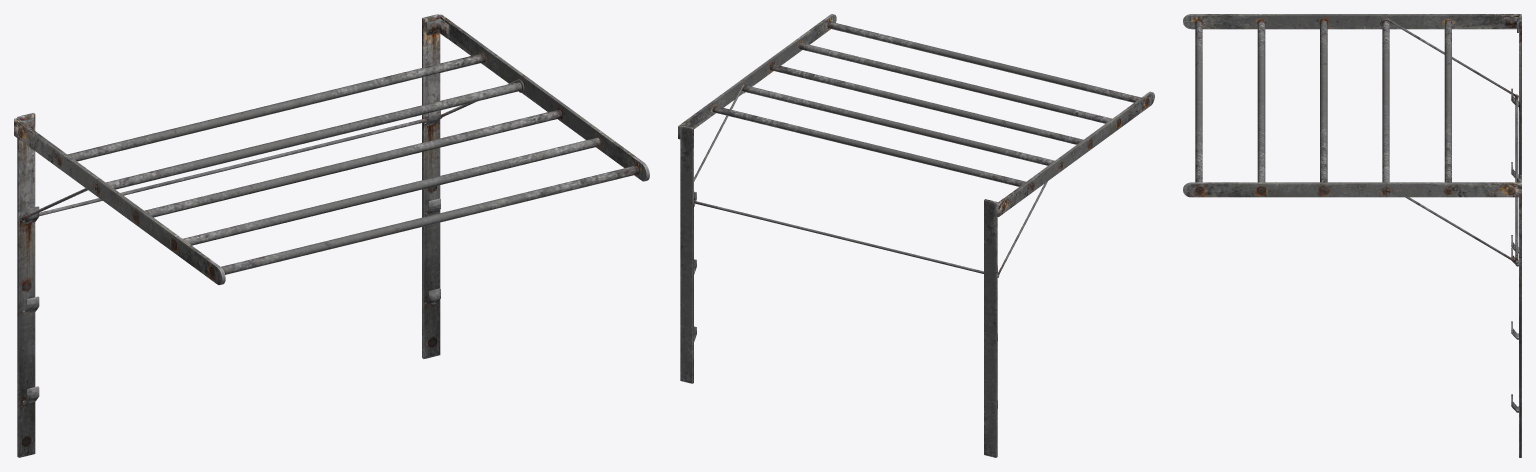
The model's file is 085_MetalShelf.fbx.
3 renders of one model, left to right at view 1: azimuth 30°, elevation 25°; view 2: azimuth 150°, elevation 25°; view 3: azimuth 270°, elevation 25°, orthographic. The views are drawn at different scales.
Visible parts, largest first — view 1: LOD_1_Group_0_Sub_1__sm30_085_MetalShelf01F_A_Mat; view 2: LOD_1_Group_0_Sub_1__sm30_085_MetalShelf01F_A_Mat; view 3: LOD_1_Group_0_Sub_1__sm30_085_MetalShelf01F_A_Mat.
Boxes of the visible parts, box(x1,y1,x2,y2) form: LOD_1_Group_0_Sub_1__sm30_085_MetalShelf01F_A_Mat: box(14, 14, 649, 457); LOD_1_Group_0_Sub_1__sm30_085_MetalShelf01F_A_Mat: box(678, 14, 1154, 457); LOD_1_Group_0_Sub_1__sm30_085_MetalShelf01F_A_Mat: box(1183, 14, 1521, 457).
Size of the model in its own units: 0.7244 by 0.5504 by 0.6117.
